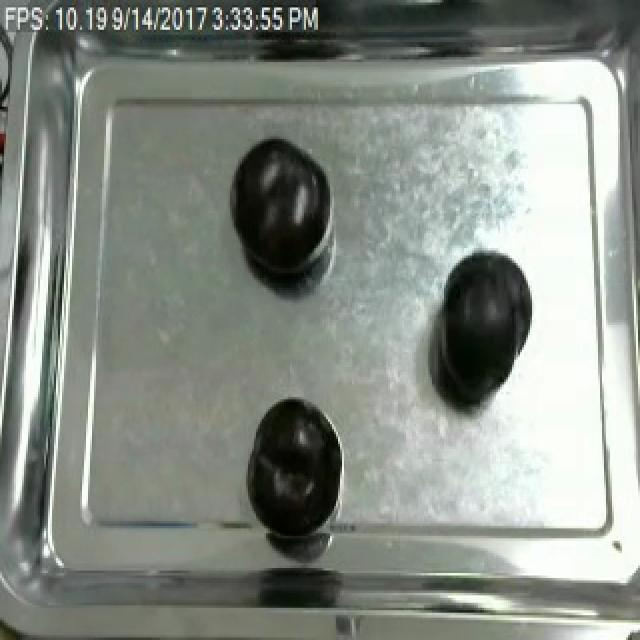Fruit: (430, 246, 536, 414), (226, 134, 328, 283), (246, 394, 338, 531)
